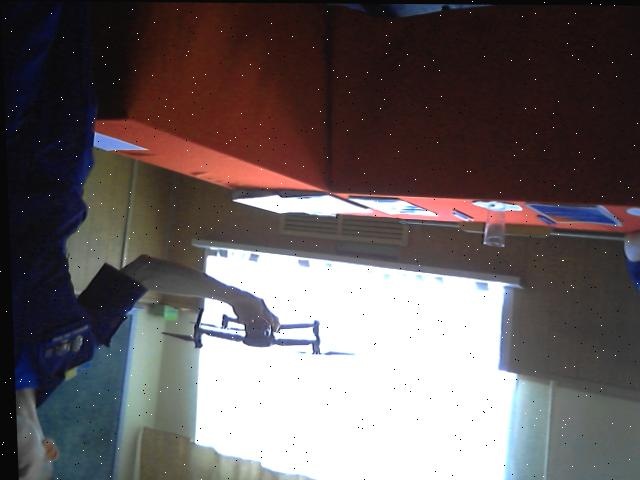drone: (153, 301, 353, 373)
